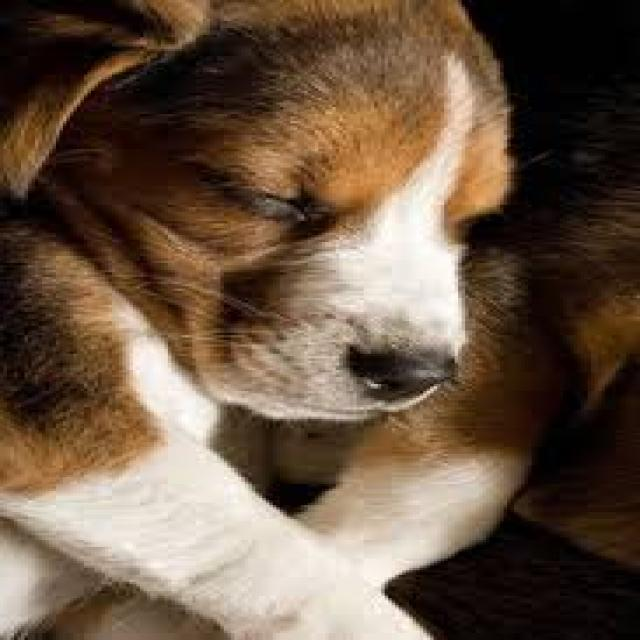Dog: (0, 0, 539, 419)
